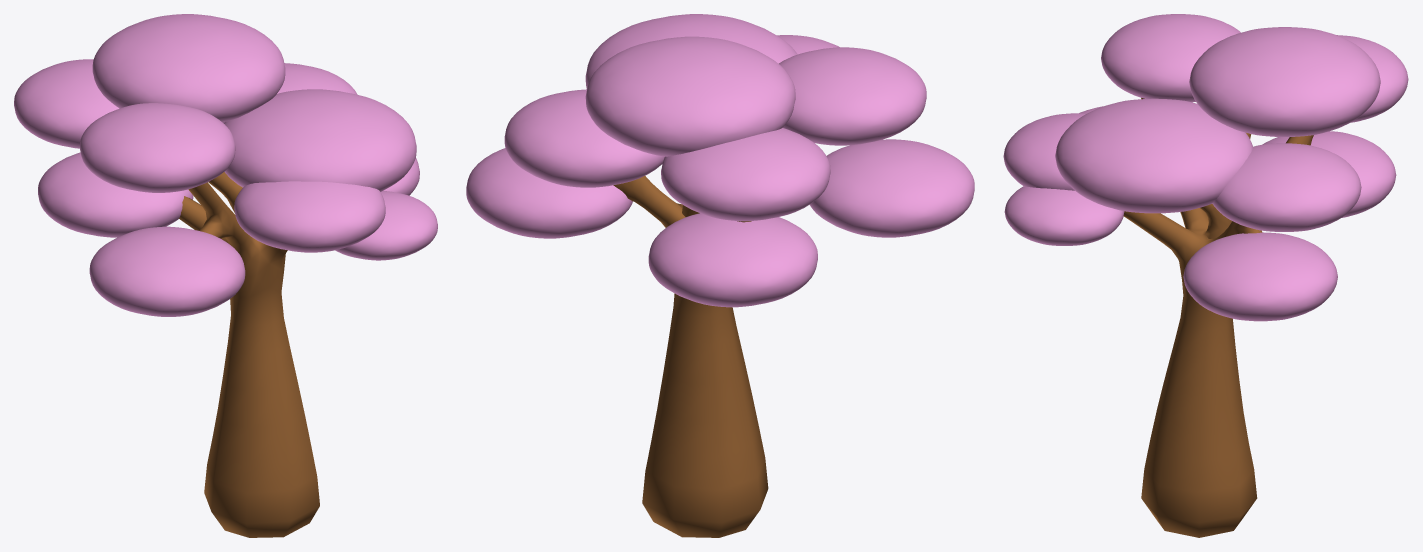
Rendered from Tree_bevel.fbx.
3 views of the same model, side by side, from view 1: azimuth 30°, elevation 25°; view 2: azimuth 150°, elevation 25°; view 3: azimuth 270°, elevation 25° (orthographic). The views are drawn at different scales.
Parts seen in each view (by area): view 1: Tree, Icosphere.001, Icosphere.004, Icosphere.006, Icosphere.003, Icosphere.002, Icosphere.009, Icosphere, Icosphere.007, Icosphere.005, Icosphere.008; view 2: Tree, Icosphere.001, Icosphere.009, Icosphere.006, Icosphere, Icosphere.003, Icosphere.005, Icosphere.008, Icosphere.004, Icosphere.002; view 3: Tree, Icosphere.004, Icosphere.001, Icosphere.008, Icosphere.005, Icosphere.003, Icosphere.007, Icosphere.002, Icosphere.009, Icosphere.
Part boxes in pixels (box(x1,y1,x2,y2)): Tree: box(179, 172, 319, 537); Icosphere.001: box(92, 14, 285, 122); Icosphere.004: box(224, 89, 416, 191); Icosphere.006: box(89, 226, 245, 316); Icosphere.003: box(80, 103, 235, 192); Icosphere.002: box(234, 181, 385, 252); Icosphere.009: box(38, 152, 193, 237); Icosphere: box(14, 59, 119, 148); Icosphere.007: box(335, 191, 437, 260); Icosphere.005: box(223, 63, 357, 123); Icosphere.008: box(383, 158, 419, 195); Tree: box(613, 176, 768, 537); Icosphere.001: box(585, 36, 795, 156); Icosphere.009: box(648, 213, 817, 307); Icosphere.006: box(810, 139, 974, 237); Icosphere: box(661, 128, 830, 221); Icosphere.003: box(779, 47, 926, 145); Icosphere.005: box(504, 89, 664, 187); Icosphere.008: box(466, 148, 632, 238); Icosphere.004: box(585, 14, 797, 88); Icosphere.002: box(777, 35, 839, 54); Tree: box(1123, 98, 1313, 537); Icosphere.004: box(1055, 98, 1252, 213); Icosphere.001: box(1189, 27, 1380, 136); Icosphere.008: box(1183, 232, 1337, 321); Icosphere.005: box(1212, 143, 1361, 231); Icosphere.003: box(1101, 14, 1240, 102); Icosphere.007: box(1004, 186, 1124, 245); Icosphere.002: box(1003, 113, 1086, 190); Icosphere.009: box(1262, 131, 1396, 217); Icosphere: box(1336, 35, 1408, 122).
Size of the model in its own units: 661 by 791 by 619.
